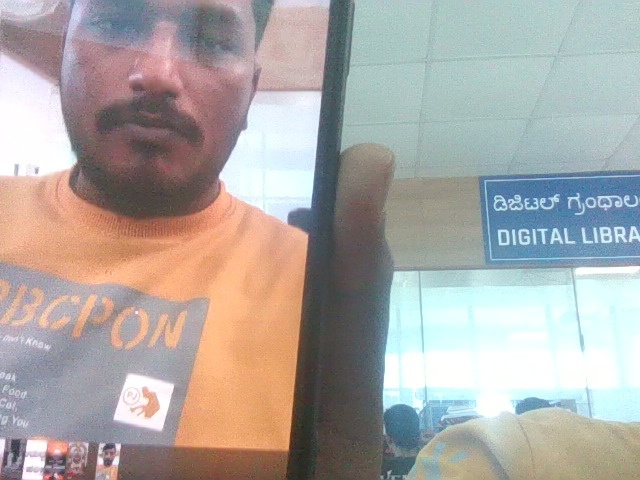fake: (26, 0, 290, 374)
